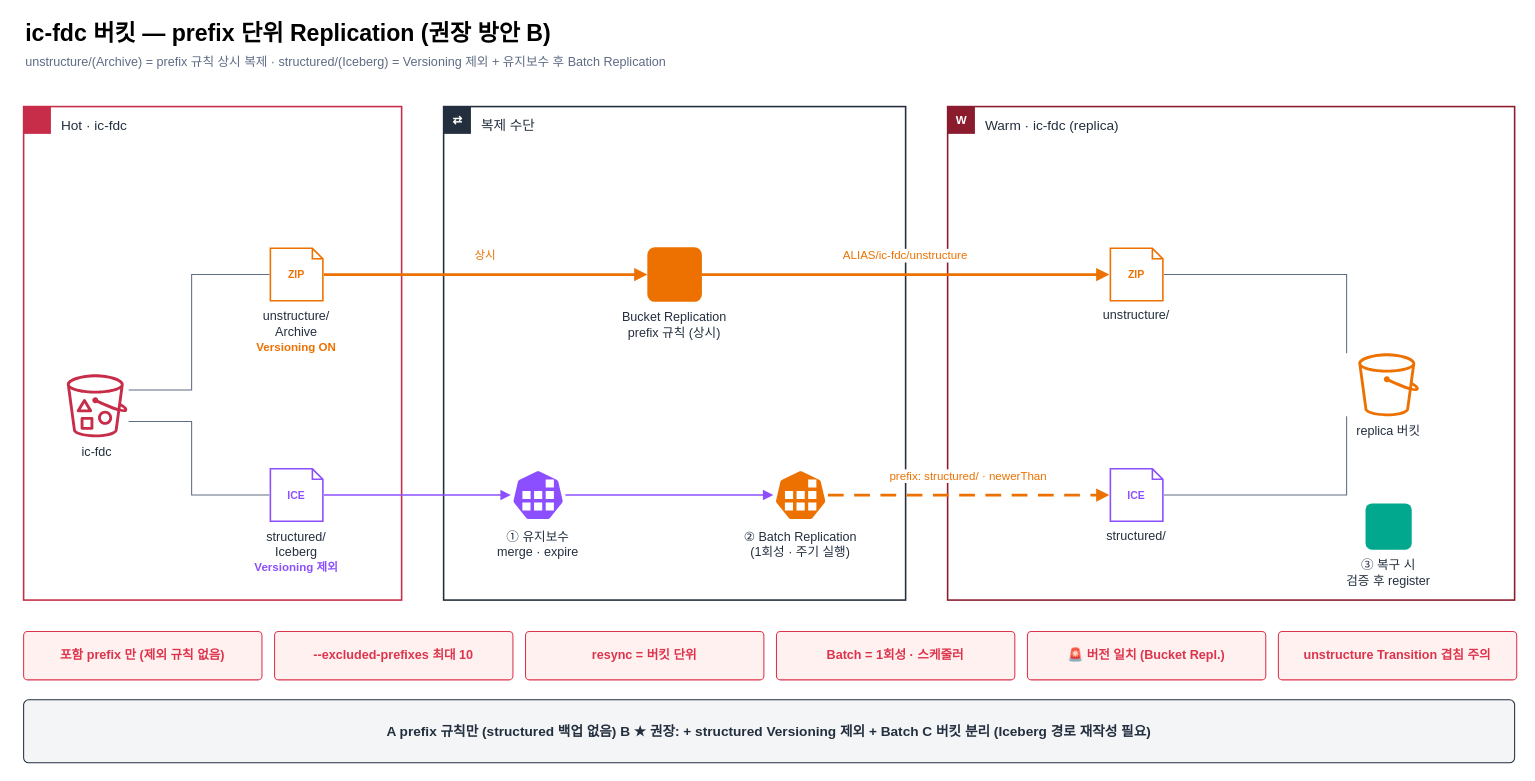
This 1535x781 diagram has some shape labels left out. Here are the shapes that lost their labels. From the top down, the centre of each, then its label:
the point at 36,119: S3
the point at 674,274: REP
the point at 1388,526: HMS
